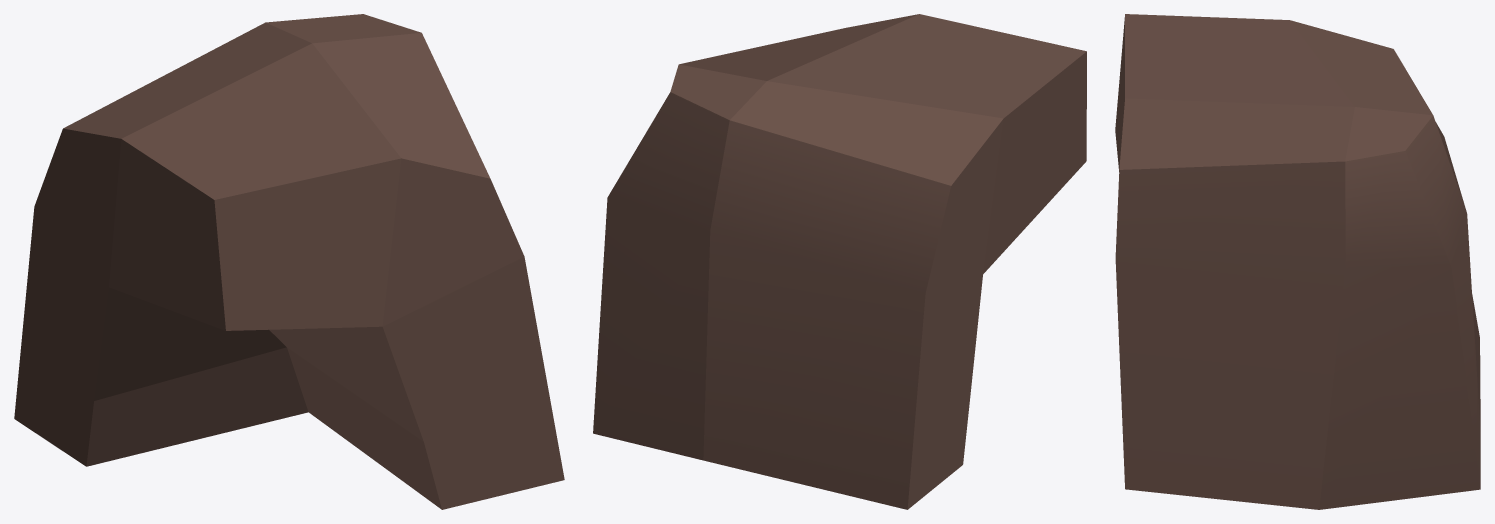
File: Cave_Ceiling_Corner_Low.fbx
The picture shows the model from 3 angles, left to right: view 1: azimuth 30°, elevation 25°; view 2: azimuth 150°, elevation 25°; view 3: azimuth 270°, elevation 25°; orthographic projection. The views are drawn at different scales.
Visible parts, largest first — view 1: Cave_Ceiling_Corner_Low; view 2: Cave_Ceiling_Corner_Low; view 3: Cave_Ceiling_Corner_Low.
Part boxes in pixels (bbox=[...]): Cave_Ceiling_Corner_Low: bbox=[14, 14, 564, 509]; Cave_Ceiling_Corner_Low: bbox=[593, 14, 1086, 509]; Cave_Ceiling_Corner_Low: bbox=[1115, 14, 1480, 509].
Size of the model in its own units: 3.01 by 3.06 by 3.23.
